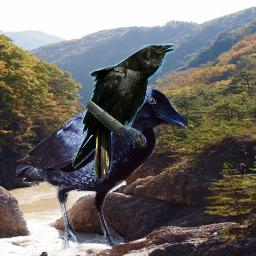Crow: (16, 86, 189, 252), (72, 43, 175, 181)
